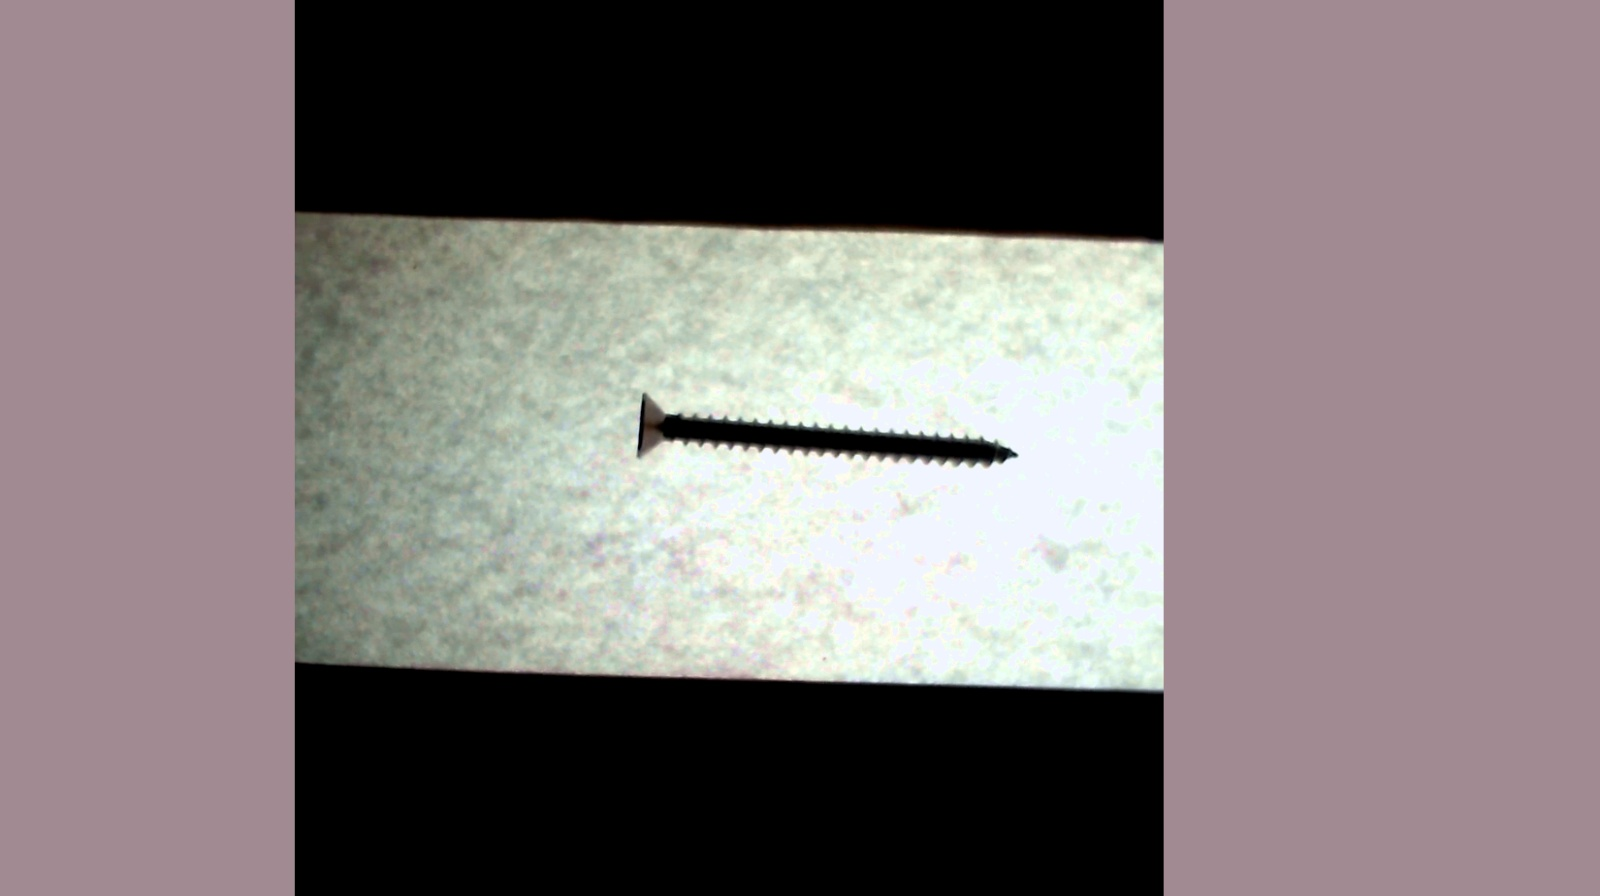S002: (621, 350, 1027, 510)
